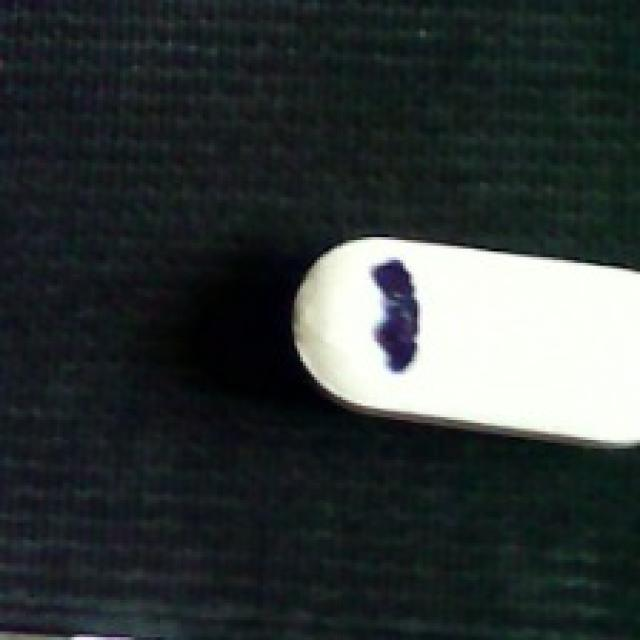defected: (283, 231, 637, 446)
